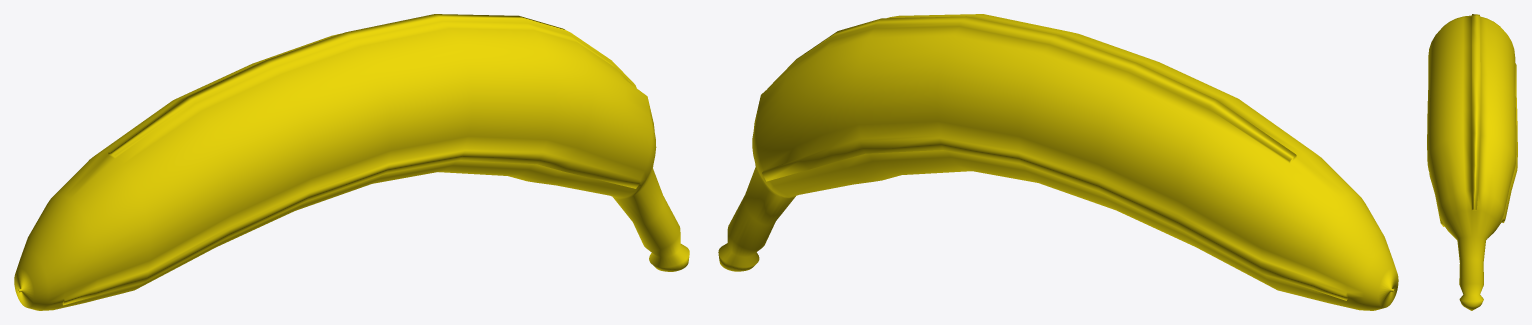
Rendered from banana.fbx.
3 views of the same model, side by side, from view 1: azimuth 30°, elevation 25°; view 2: azimuth 150°, elevation 25°; view 3: azimuth 270°, elevation 25° (orthographic). The views are drawn at different scales.
Visible parts, largest first — view 1: Cylinder; view 2: Cylinder; view 3: Cylinder.
Part boxes in pixels (box(x1,y1,x2,y2)): Cylinder: box(14, 14, 689, 310); Cylinder: box(718, 14, 1398, 310); Cylinder: box(1427, 14, 1517, 310).
Size of the model in its own units: 1001 by 449 by 209.
